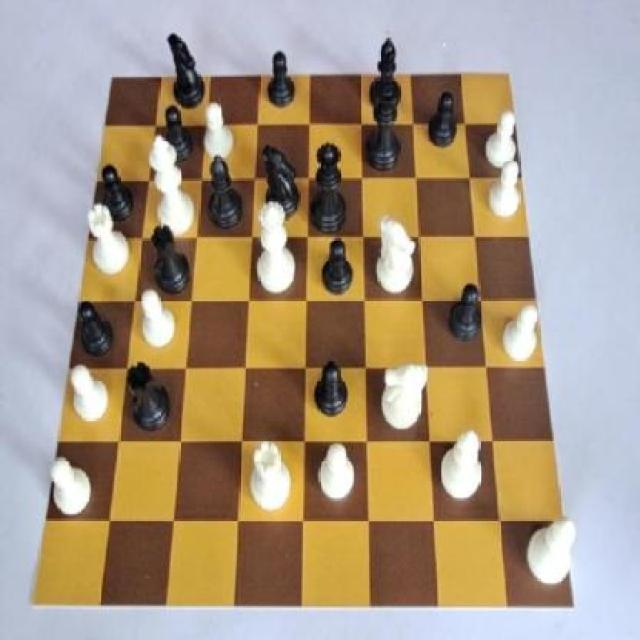bishop: (200, 146, 245, 234), (364, 32, 410, 117)
black-bishop: (361, 64, 407, 176)
black-king: (255, 135, 307, 230), (163, 28, 211, 114)
black-knight: (92, 154, 142, 229), (444, 275, 488, 353), (425, 85, 469, 162), (312, 354, 357, 422), (258, 42, 301, 113), (316, 236, 356, 310), (157, 98, 198, 167), (74, 298, 118, 362)
black-pawn: (305, 139, 356, 236)
black-queen: (122, 354, 179, 443), (145, 218, 193, 301)
black-rook: (520, 503, 582, 599), (437, 424, 489, 504)
white-bishop: (145, 131, 200, 240)
white-king: (374, 354, 433, 444), (371, 211, 423, 296)
white-knight: (43, 451, 104, 523), (197, 90, 248, 168), (497, 298, 549, 374), (132, 276, 181, 356), (65, 355, 112, 430), (311, 437, 356, 515), (485, 150, 522, 234), (482, 108, 528, 169)
white-pawn: (251, 194, 296, 298)
white-queen: (81, 202, 137, 282), (245, 442, 298, 520)
